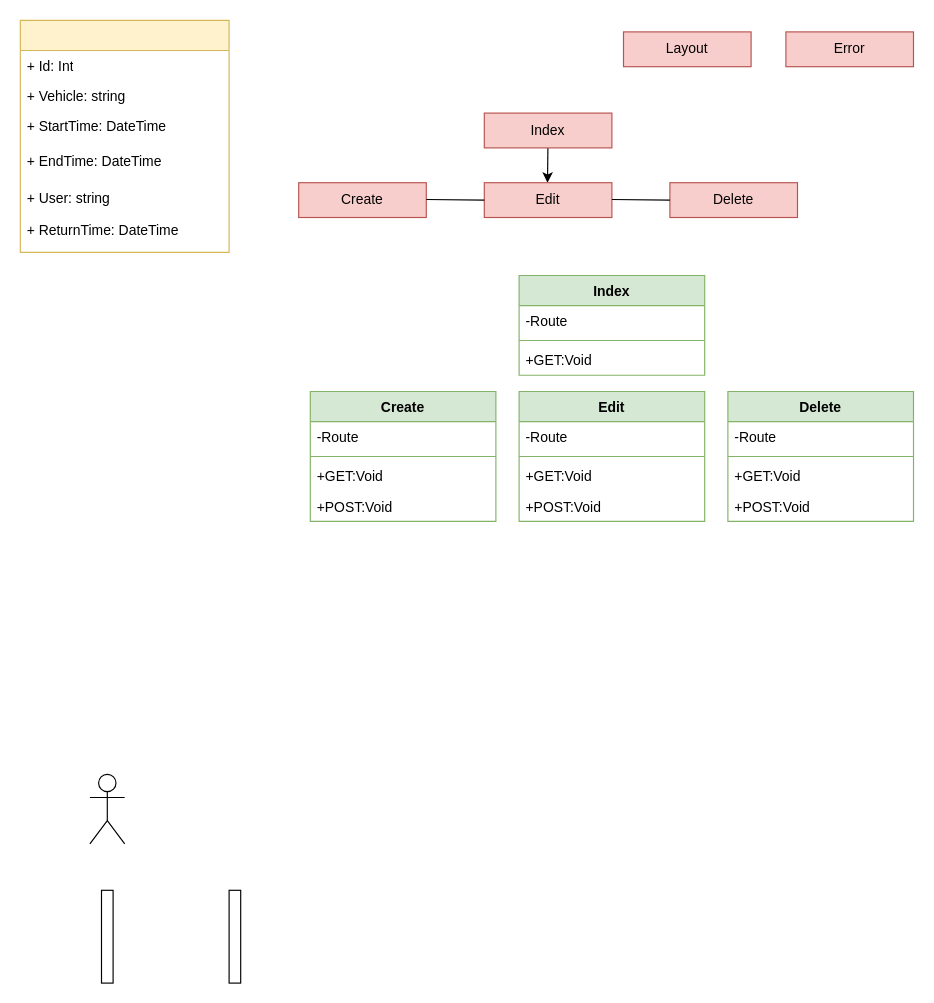
The diagram is 934 pixels wide and 1003 high, and some of its shapes have lost their labels. The shapes that lost their labels are listed below. From the top down, each one's box as (x1, y1, x2, y2) in pixels, then its label:
(19, 19, 229, 252): CarUsageHistory
(89, 773, 125, 844): Actor
